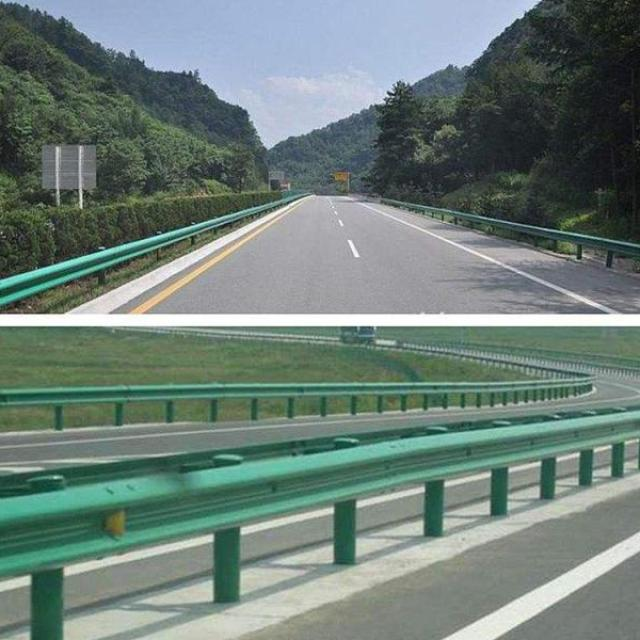Guard rail: (0, 409, 640, 580), (0, 193, 309, 308), (0, 381, 549, 411), (381, 199, 640, 256)
